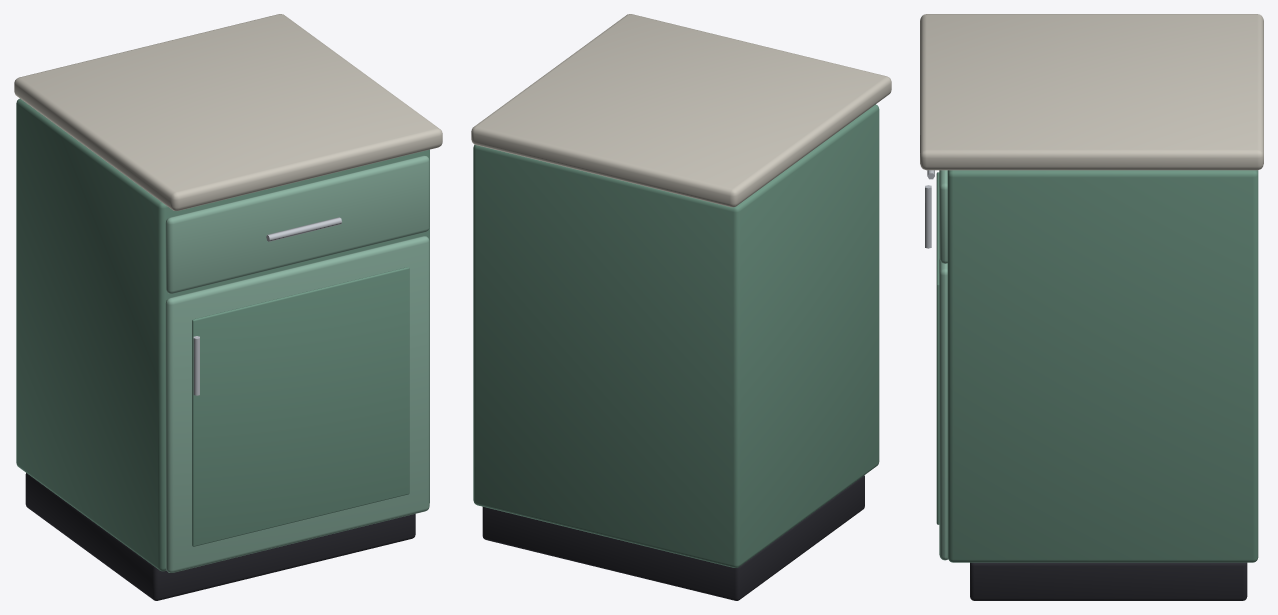
Rendered from counter.glb.
3 views of the same model, side by side, from view 1: azimuth 30°, elevation 25°; view 2: azimuth 150°, elevation 25°; view 3: azimuth 270°, elevation 25° (orthographic). The views are drawn at different scales.
Visible parts, largest first — view 1: counter; view 2: counter; view 3: counter.
Part boxes in pixels (left/top/right/bottom): counter: left=14, top=14, right=442, bottom=600; counter: left=471, top=14, right=891, bottom=600; counter: left=920, top=14, right=1263, bottom=600.
Bounding box in the file's own units: 0.6 × 0.9 × 0.62.
